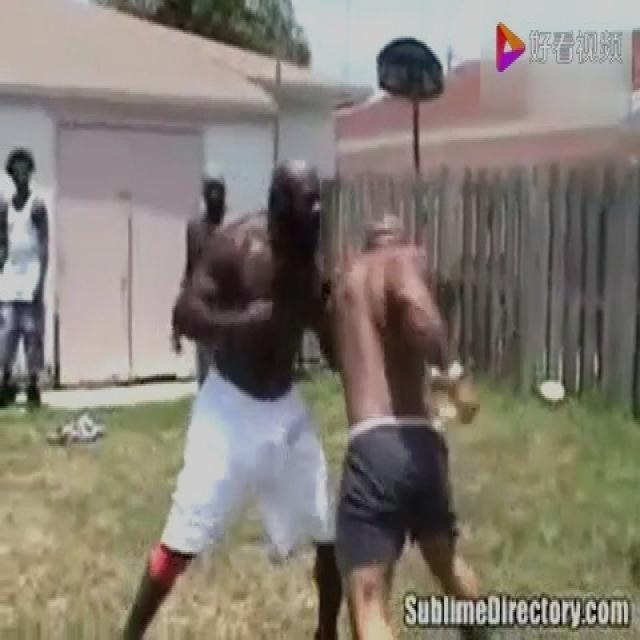fight: (98, 152, 514, 638)
